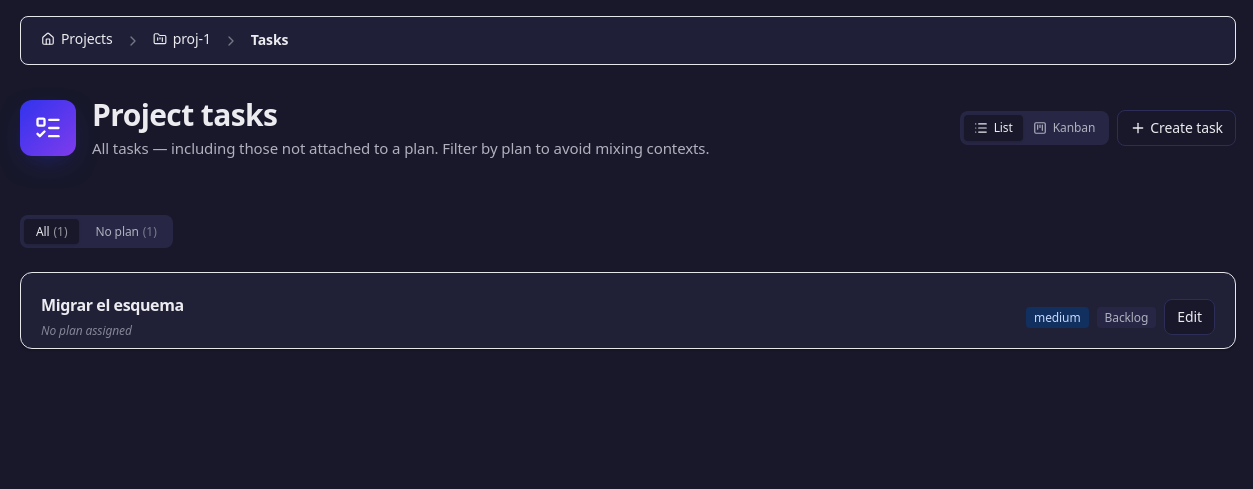
Test: tasks del proyecto en los dos idiomas › traduce los estados de las columnas del Kanban
The image size is (1253, 489).
Expected: the list with test id "tasks-list" is shown, [20,272,1236,349]
Expected: the text with test id "task-row-task-1-status" reads "Backlog", [1104,309,1148,326]
Note: La vista Kanban: las ocho columnas salen del catálogo compartido.
Click the tab with test id "view-toggle-kanban" at x=1064, y=128, box [1023,115,1105,141]
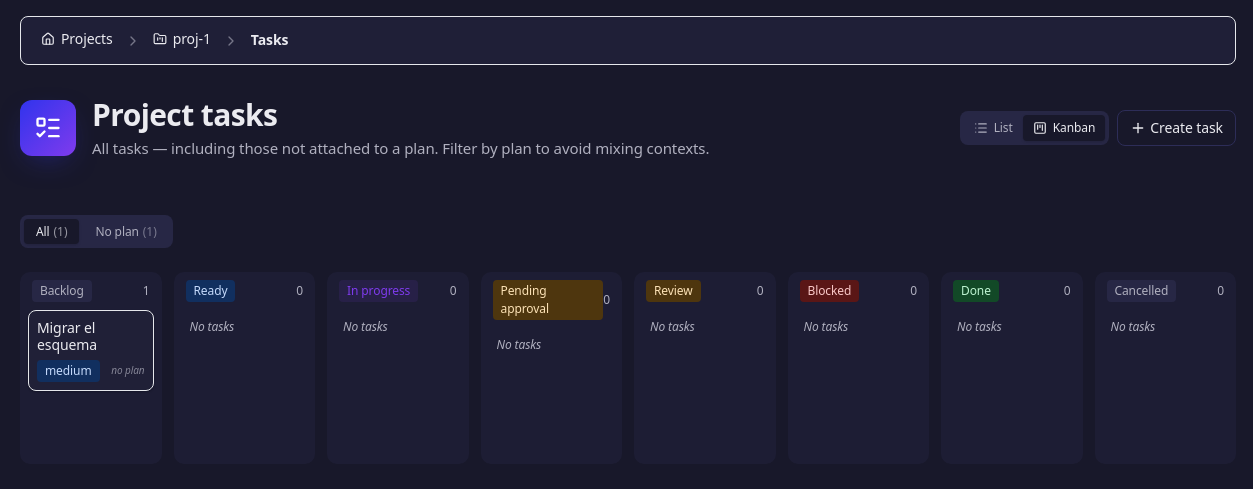
Expected: the element with test id "tasks-kanban-columns" is shown, [20,272,1236,472]
Expected: the text "In progress" is shown, [339,280,418,302]
Expected: the text "Pending approval" is shown, [492,280,603,320]
